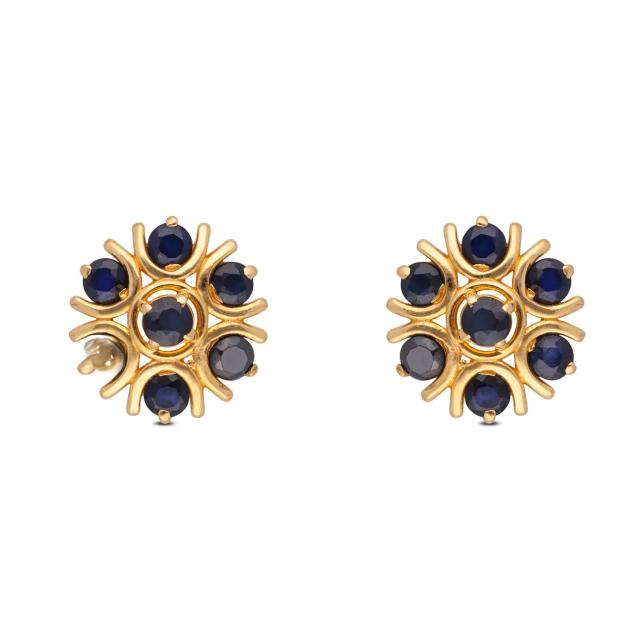missing gem: (79, 336, 124, 384)
